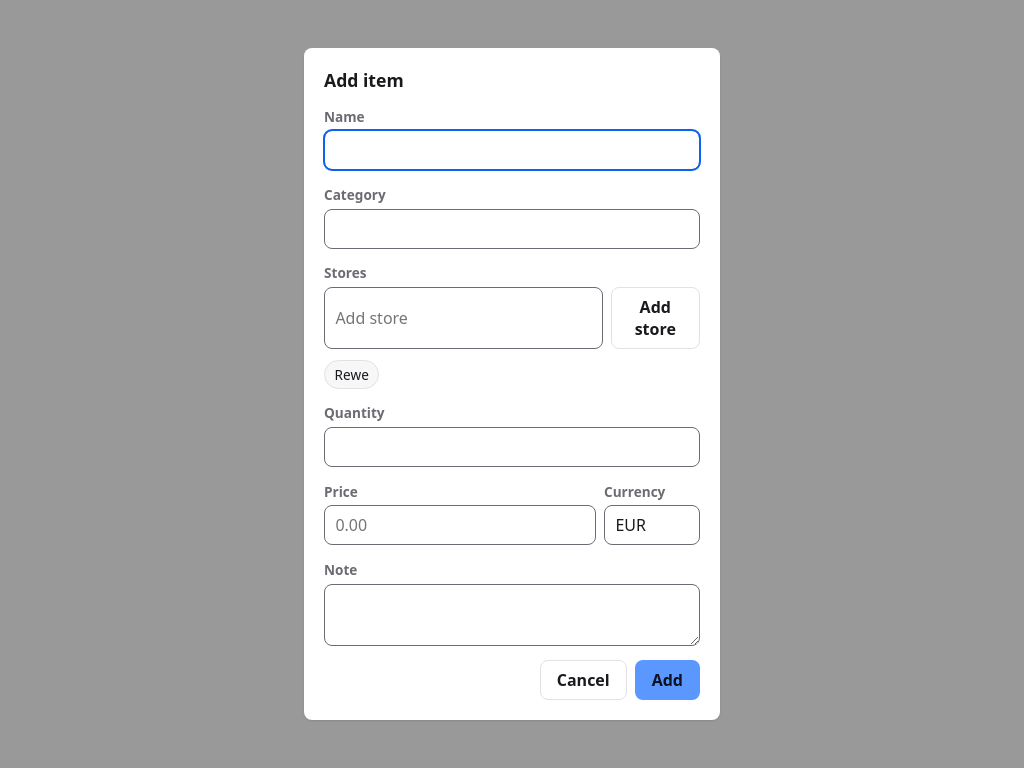
Test: ItemDialog (add mode) › does not offer a store already on the item, whatever its casing (T-139)
The image size is (1024, 768).
// Typed by hand in a different casing than the suggestion carries.
Type "rewe" into the field labelled "Stores" at (463, 318), box [324,287,602,349]
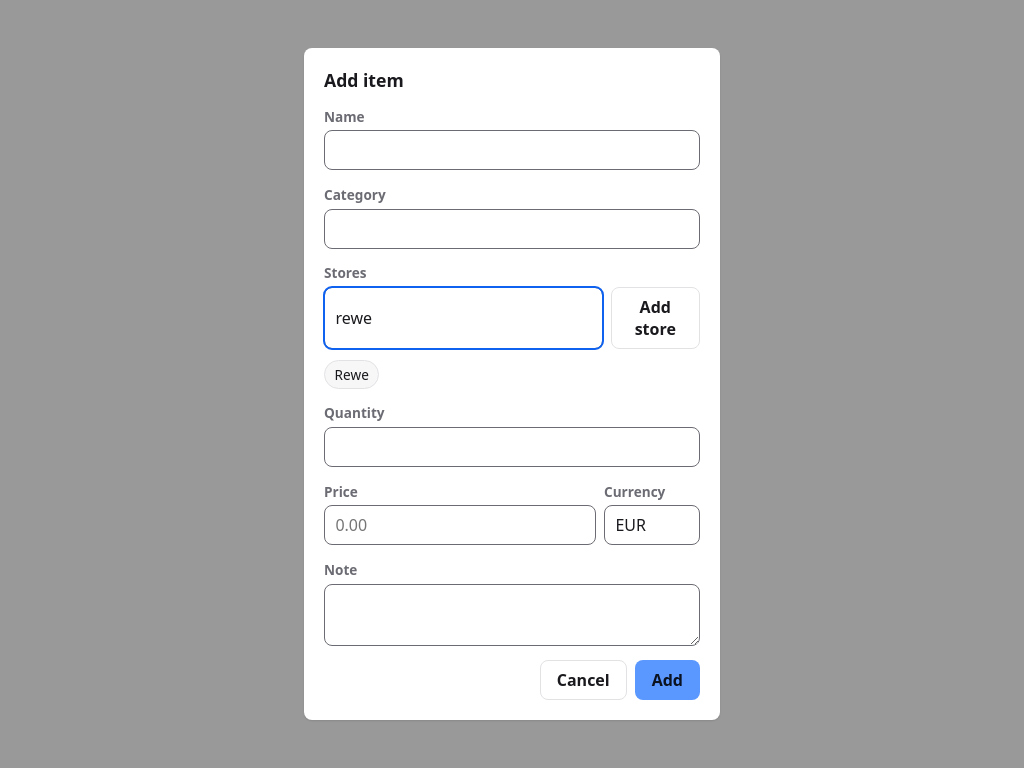
Click the button "Add store" at (655, 318), box [610,287,700,349]
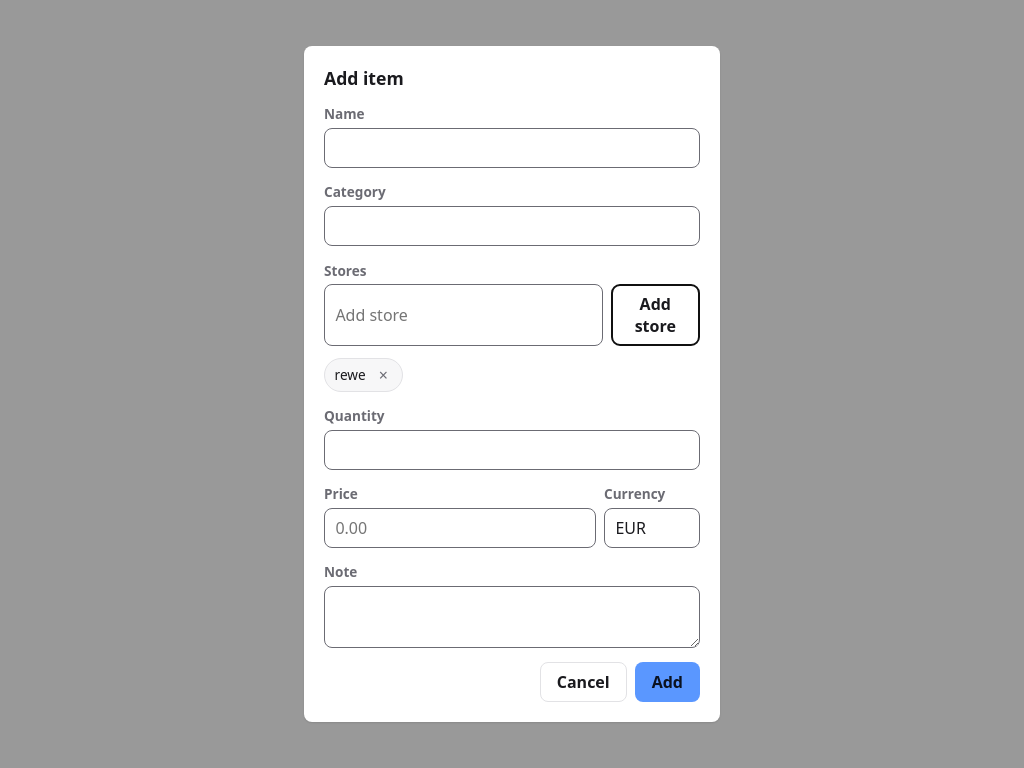
Expected: the button named "Remove rewe" is shown, [371,362,395,386]
